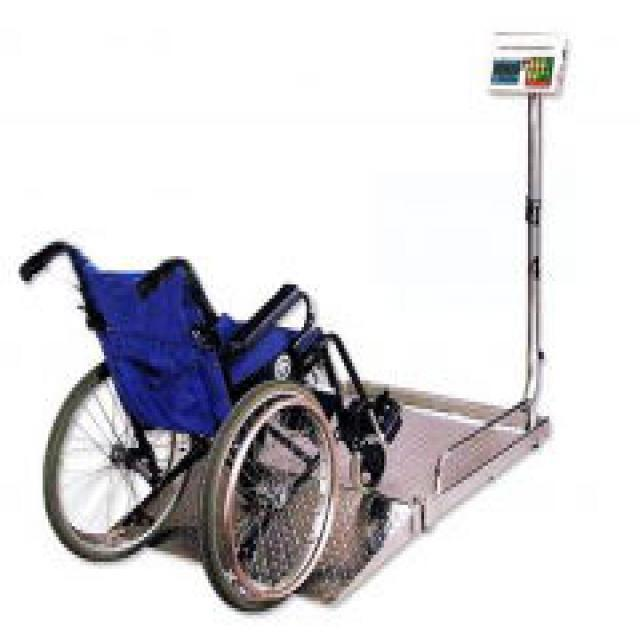wheelchair: (8, 224, 403, 619)
